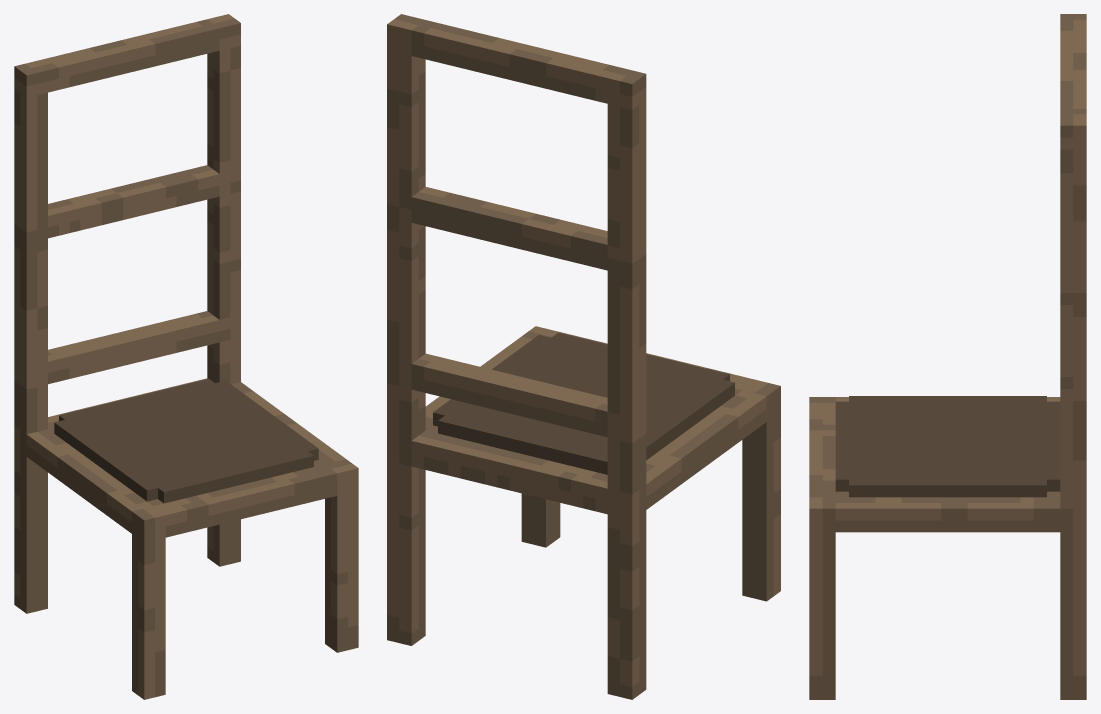
The model's file is chair1.fbx.
3 renders of one model, left to right at view 1: azimuth 30°, elevation 25°; view 2: azimuth 150°, elevation 25°; view 3: azimuth 270°, elevation 25°, orthographic. The views are drawn at different scales.
Parts seen in each view (by area): view 1: Box_5; view 2: Box_5; view 3: Box_5.
Boxes of the visible parts, left/top/right/bottom form: Box_5: left=14, top=14, right=358, bottom=699; Box_5: left=387, top=14, right=780, bottom=699; Box_5: left=809, top=14, right=1086, bottom=699.
Size of the model in its own units: 20 by 48 by 21.
